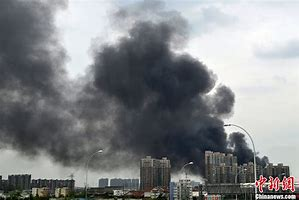smoke: (86, 17, 235, 150)
